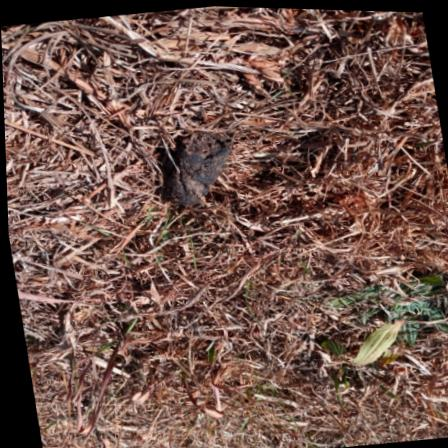dog-poop: (144, 120, 252, 216)
